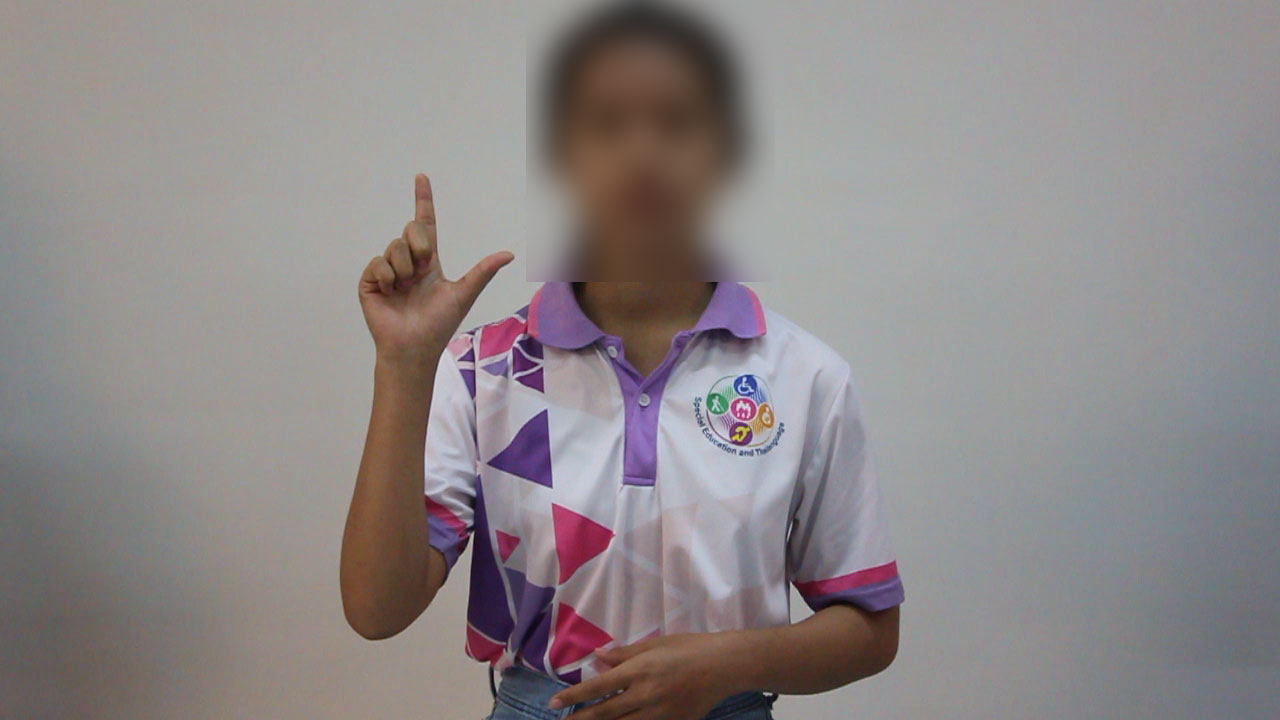lor: (336, 141, 524, 367)
